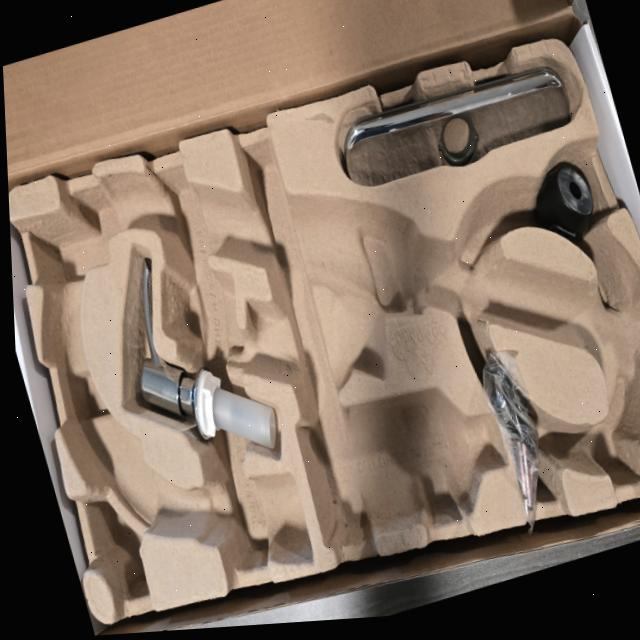1m: (42, 174, 640, 558)
2: (139, 257, 277, 451)
3m: (296, 387, 509, 547)
4: (341, 70, 571, 185)
5: (540, 161, 592, 241)
6m: (569, 370, 640, 488)
7: (482, 350, 540, 533)
